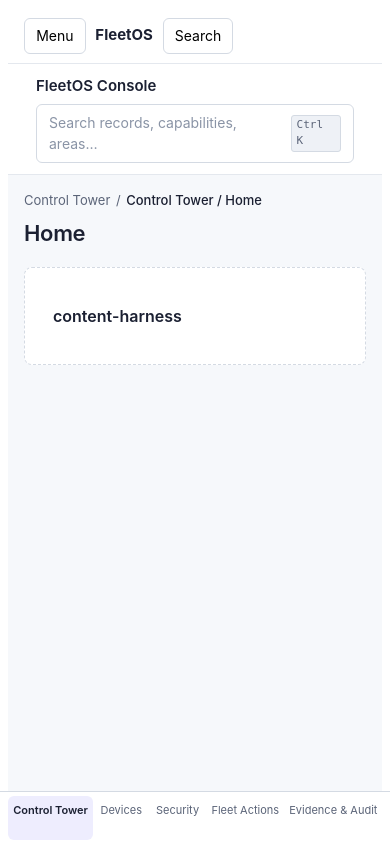
mobile navigation is COMPLETE: the five highest-frequency areas + the full-nav sheet
expect the navigation bar with class "fos-mobilenav" is shown: met, box [0, 791, 389, 843]
Click the button with class "fos-mobilebar__menu" showing "Menu" at (55, 36), box [24, 18, 86, 54]
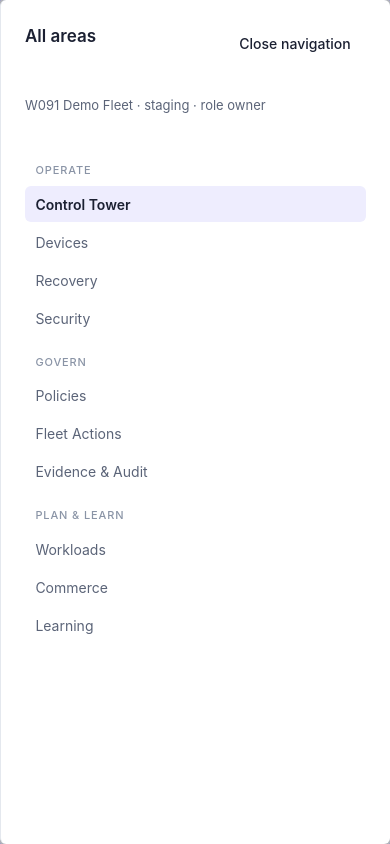
expect the dialog "All areas" is shown: met
expect the navigation bar named "Full navigation" shows "Learning": met, box [25, 608, 366, 644]
